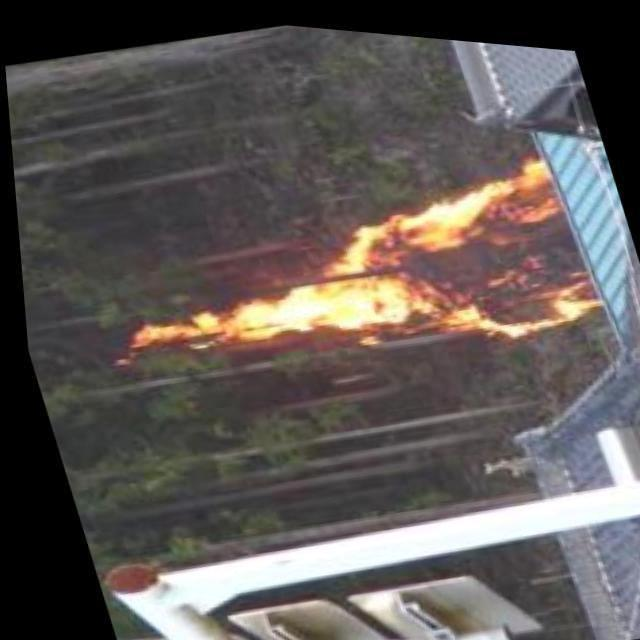fire: (100, 123, 612, 421)
